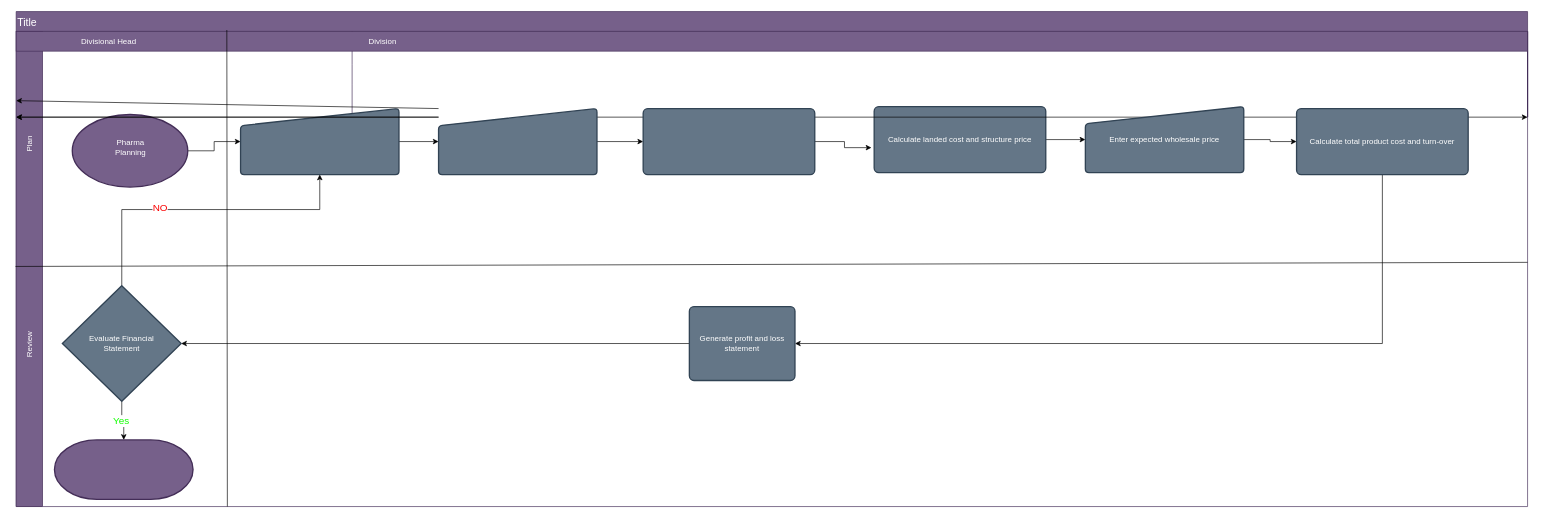
This 1544x519 diagram has some shape labels left out. Each missing label, with the centre of its shape:
"Calculate import product value in local currency" belongs at (x=728, y=141).
"Enter Handling Charges %, Company Margin %, Distributed Margin %," belongs at (x=517, y=141).
"Enter price (import currency) and sales forecast quantity" belongs at (x=319, y=141).
"Publish Financial Statement" belongs at (x=123, y=469).
